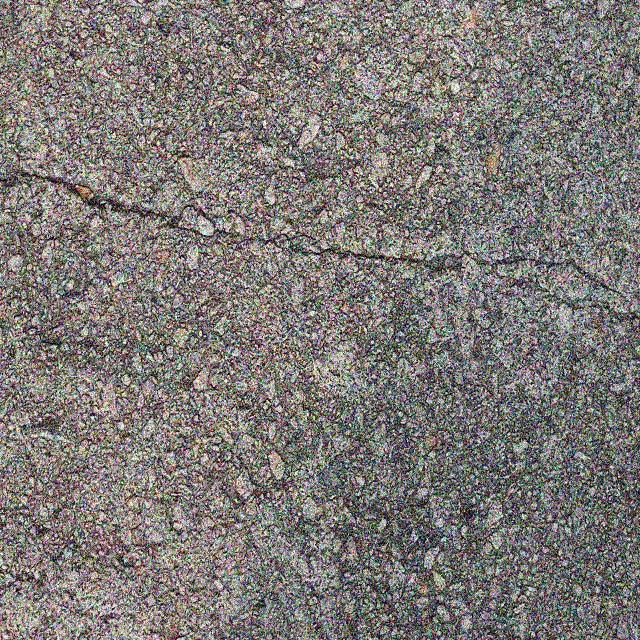SurfaceCrack: (0, 101, 639, 382)
